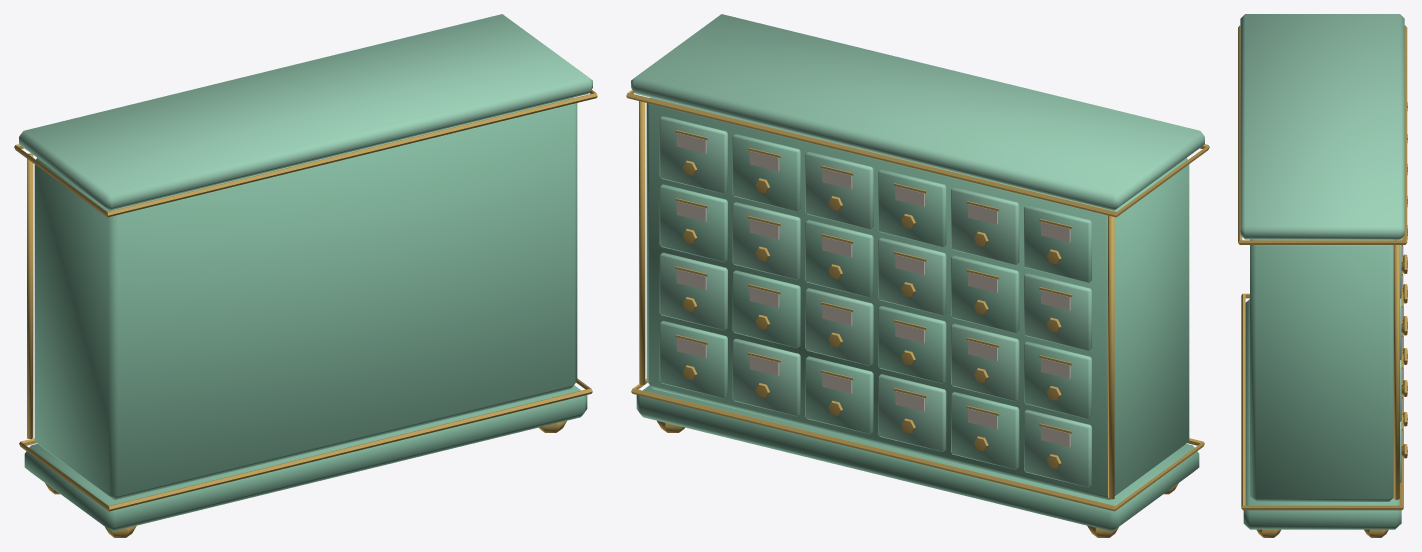
Rendered from drawer_chest_apothecary.glb.
The picture shows the model from 3 angles, left to right: view 1: azimuth 30°, elevation 25°; view 2: azimuth 150°, elevation 25°; view 3: azimuth 270°, elevation 25°; orthographic projection. The views are drawn at different scales.
Parts seen in each view (by area): view 1: drawer_chest_apothecary; view 2: drawer_chest_apothecary; view 3: drawer_chest_apothecary.
Part boxes in pixels (box(x1,y1,x2,y2)): drawer_chest_apothecary: box(14, 14, 597, 537); drawer_chest_apothecary: box(626, 14, 1209, 537); drawer_chest_apothecary: box(1238, 14, 1407, 537).
Size of what is drawn, in the model's own units: 1.5 by 1.05 by 0.5.
